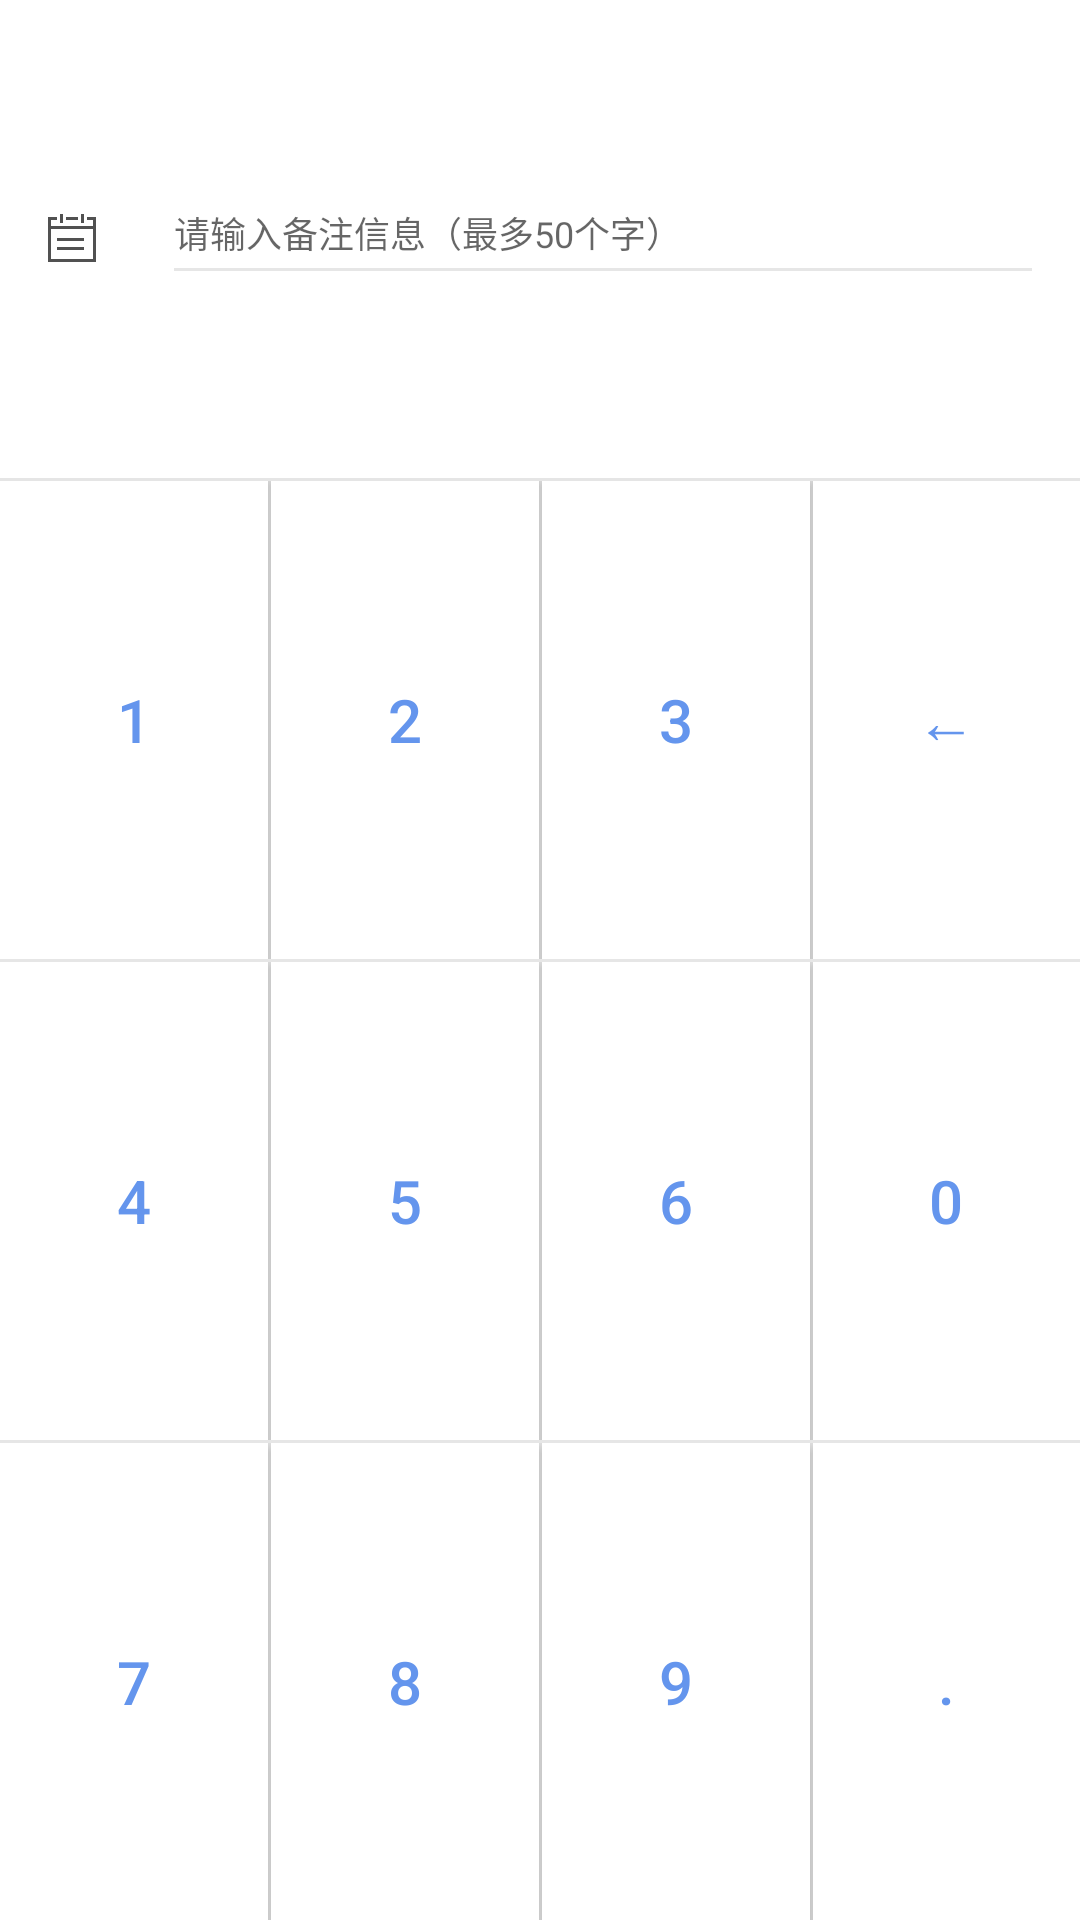

Icon bounding boxes for this 1080x1920 phone screenshot, format (x1, y1, x2, y2):
date: (48, 214, 96, 262)
